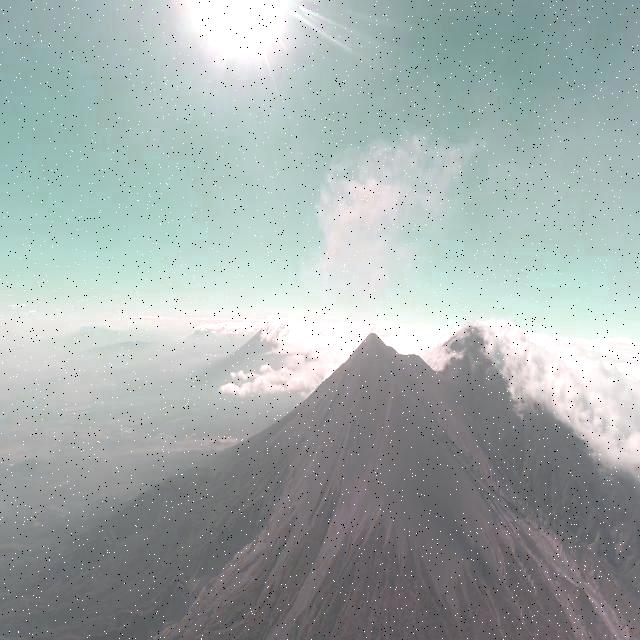Plume: (313, 118, 470, 292)
Summit: (355, 331, 392, 352)
